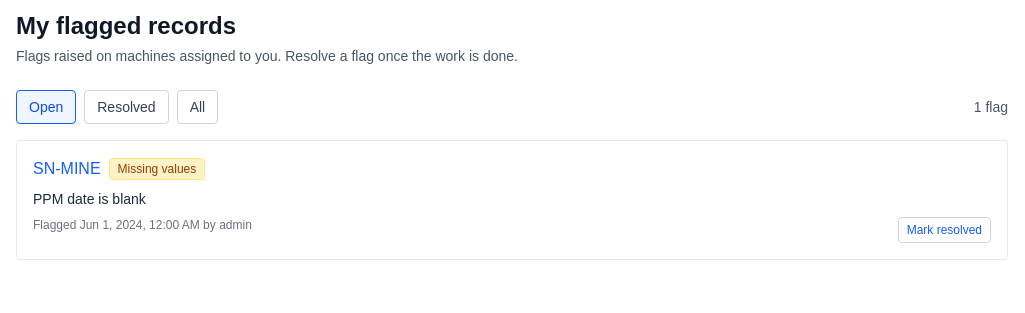
Scenario: FlagsPage › tells non-admins why their resolved list is narrow, but not on the open tab
Expected: the link "SN-MINE" is shown, [33,157,101,181]
Expected: the text "limited to ones you closed yourself" is not shown
Click the button "Resolved" at (126, 107), box [84,90,169,124]
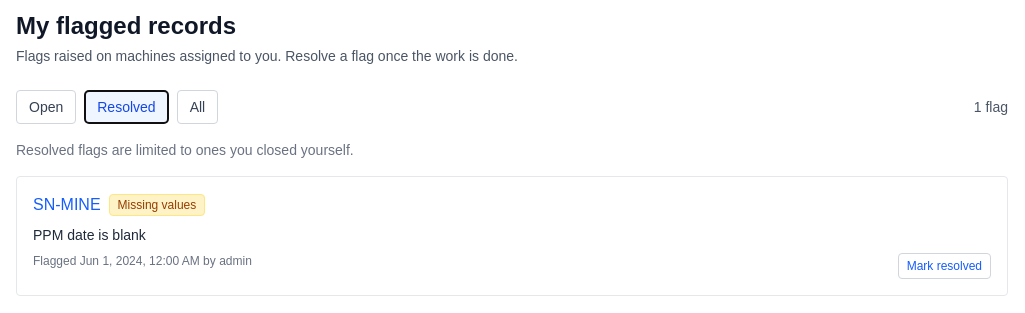
Result: the text "Resolved flags are limited to ones you closed yourself." is shown at [16,142,354,158]
